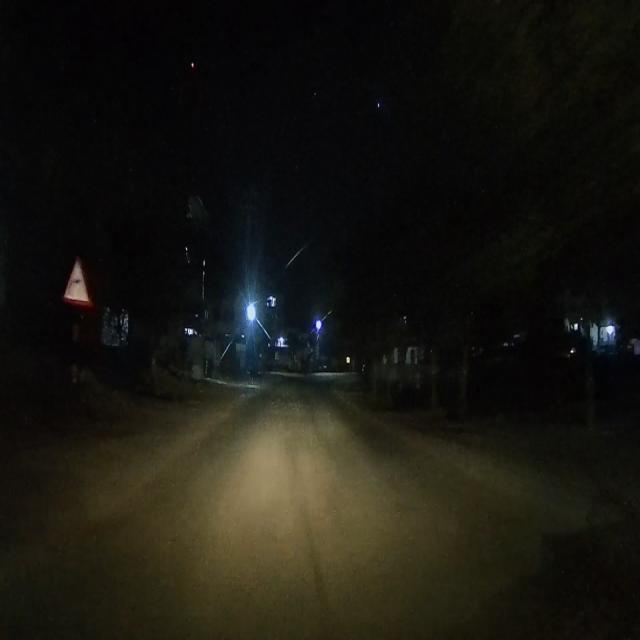right-hand-curve: (59, 244, 91, 318)
